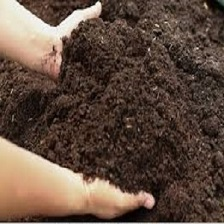loamy_soil: (25, 12, 213, 177)
